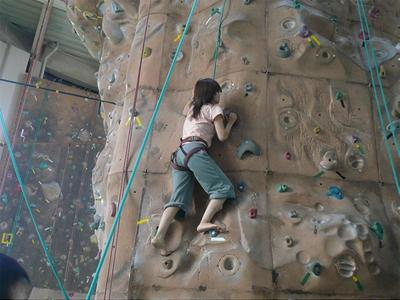person: (151, 79, 238, 258)
